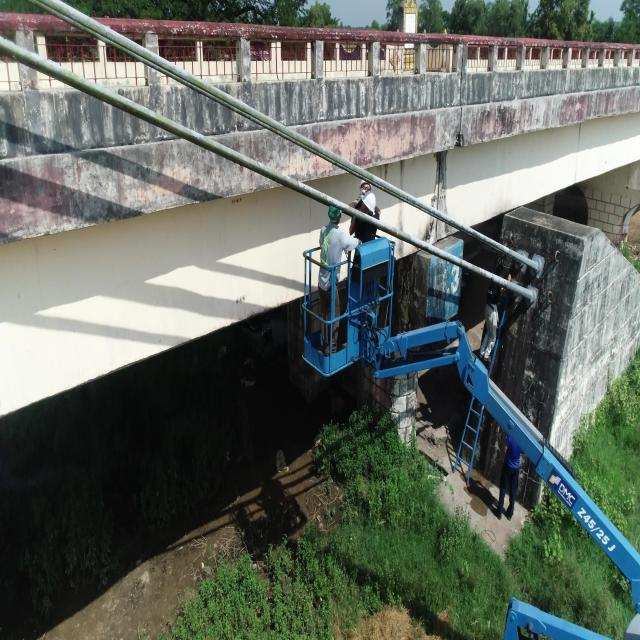crack: (284, 176, 286, 179), (244, 108, 245, 112), (264, 166, 264, 168)
